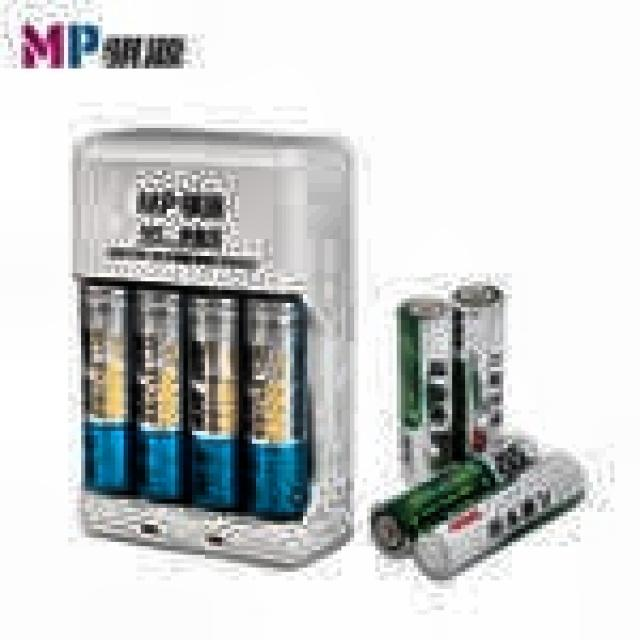Non-Valuable Waste - Batteries: (413, 454, 584, 578), (400, 285, 504, 481), (373, 439, 536, 552), (242, 297, 309, 518), (187, 294, 240, 509), (84, 286, 135, 493), (135, 289, 184, 500)
